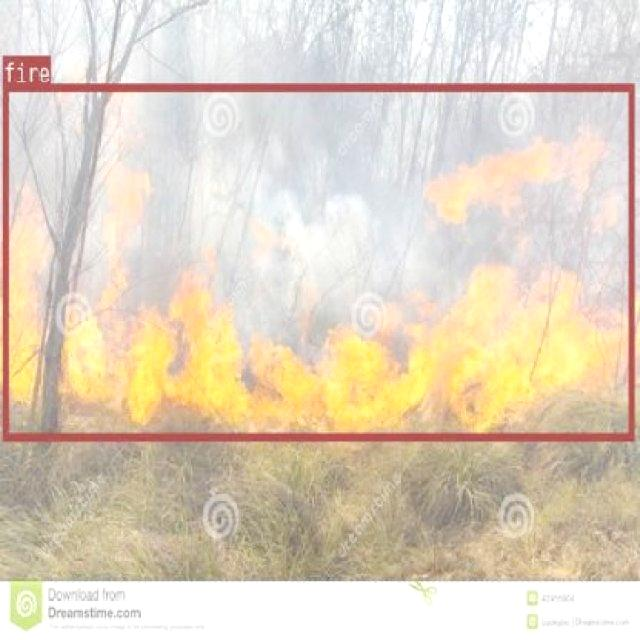fire: (1, 82, 634, 440)
